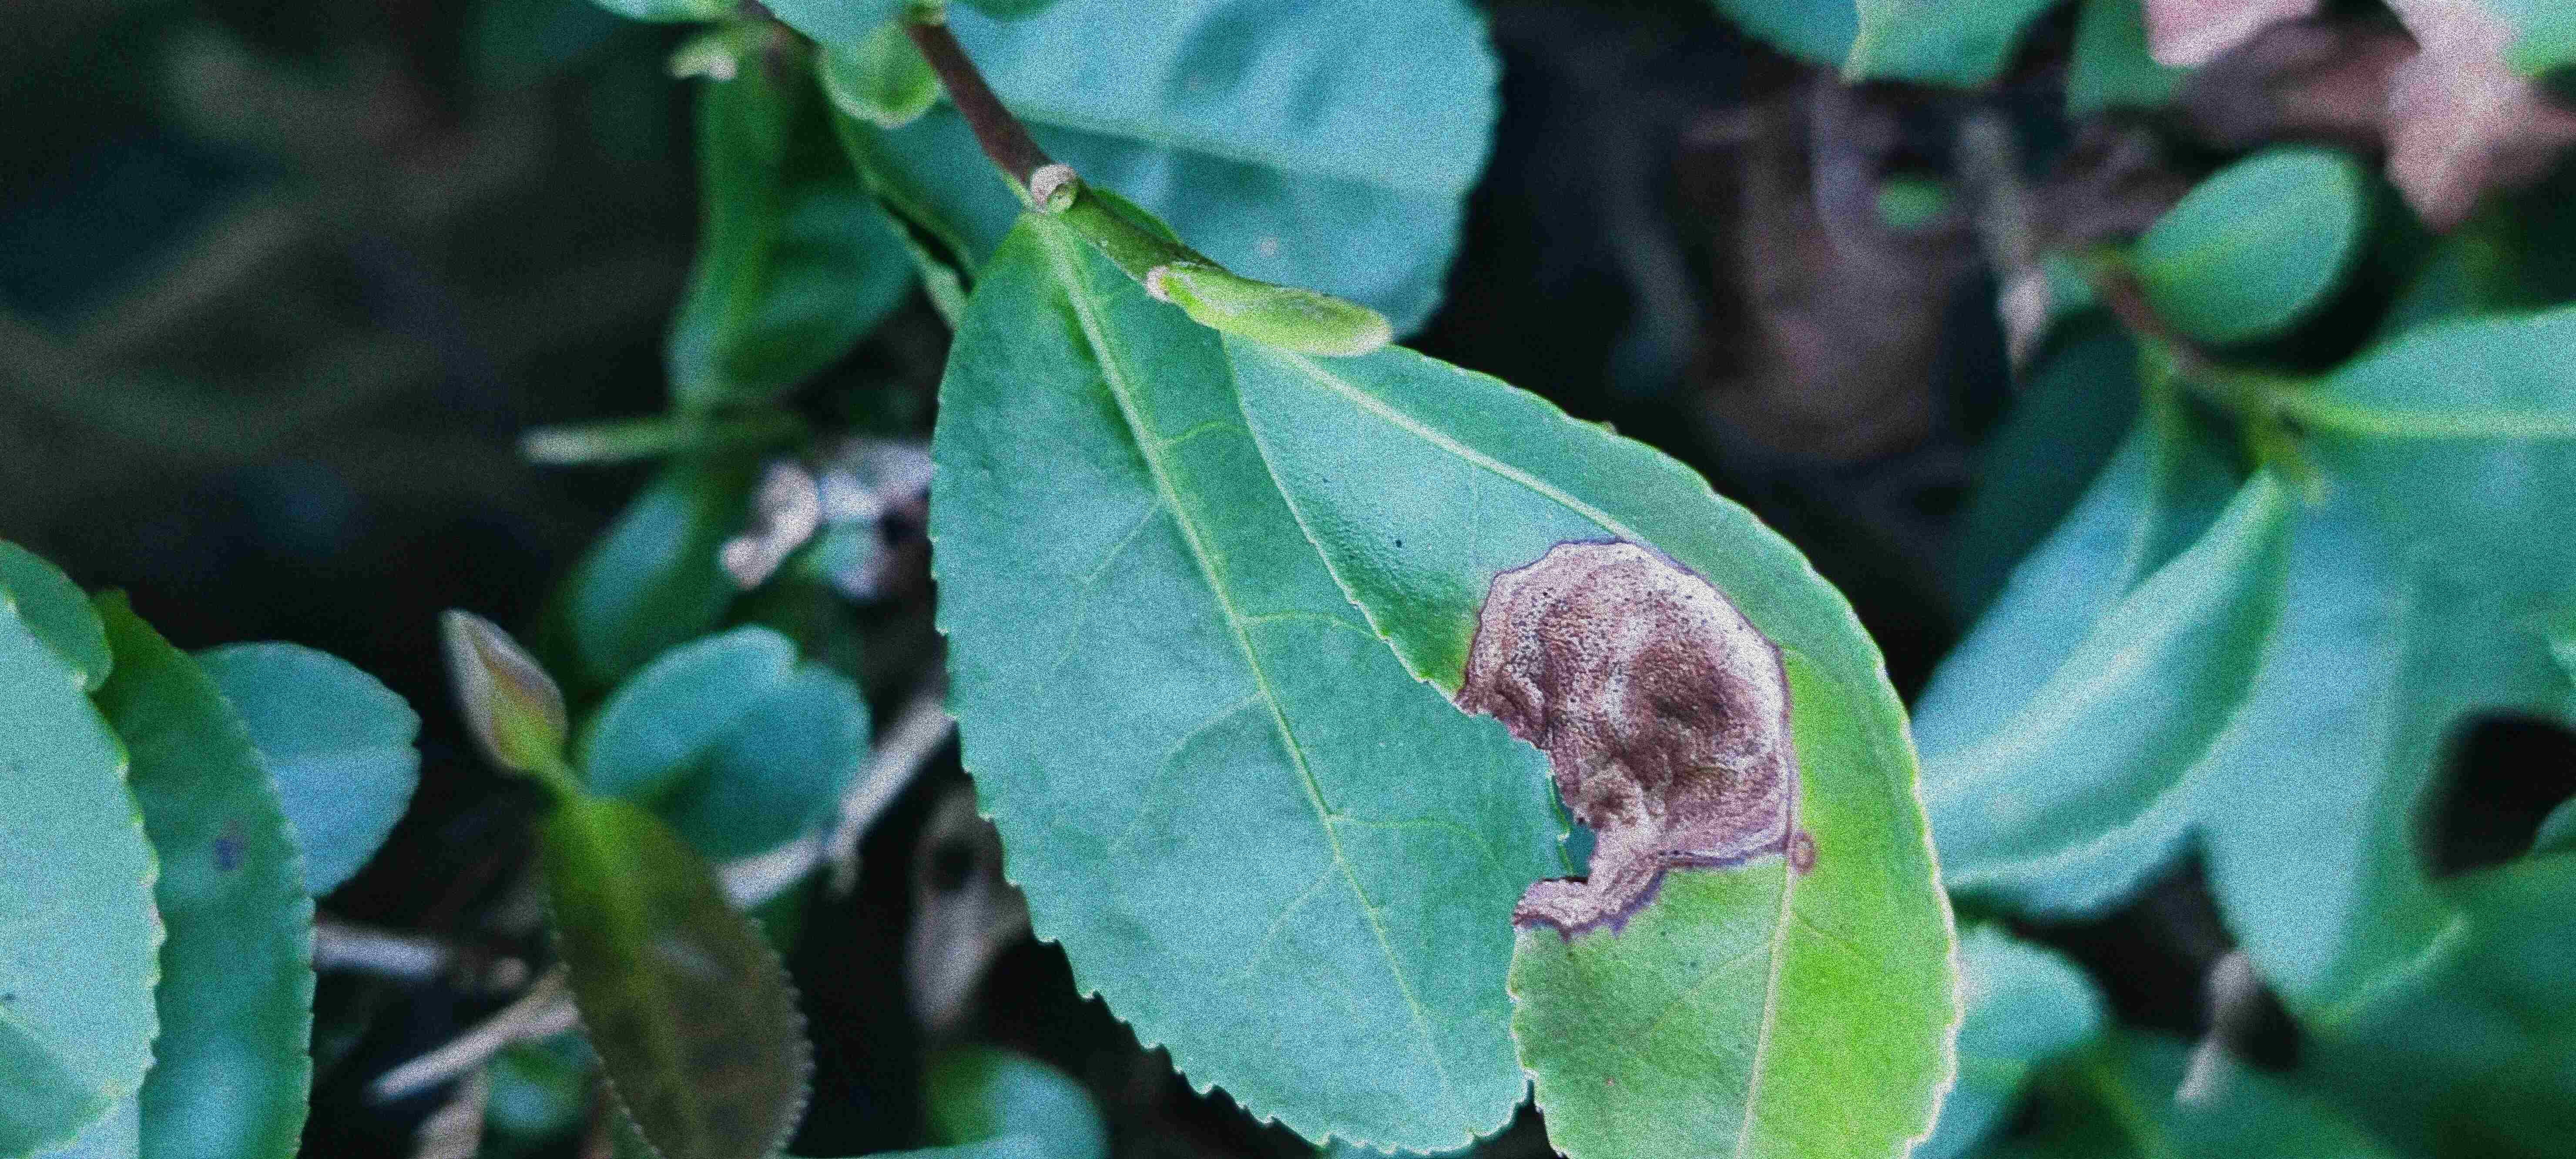chihuo_high: (2196, 468, 2576, 1036)
tanju_high: (1222, 340, 1968, 1157)
tanju_low: (536, 785, 815, 1159), (440, 612, 572, 773)
